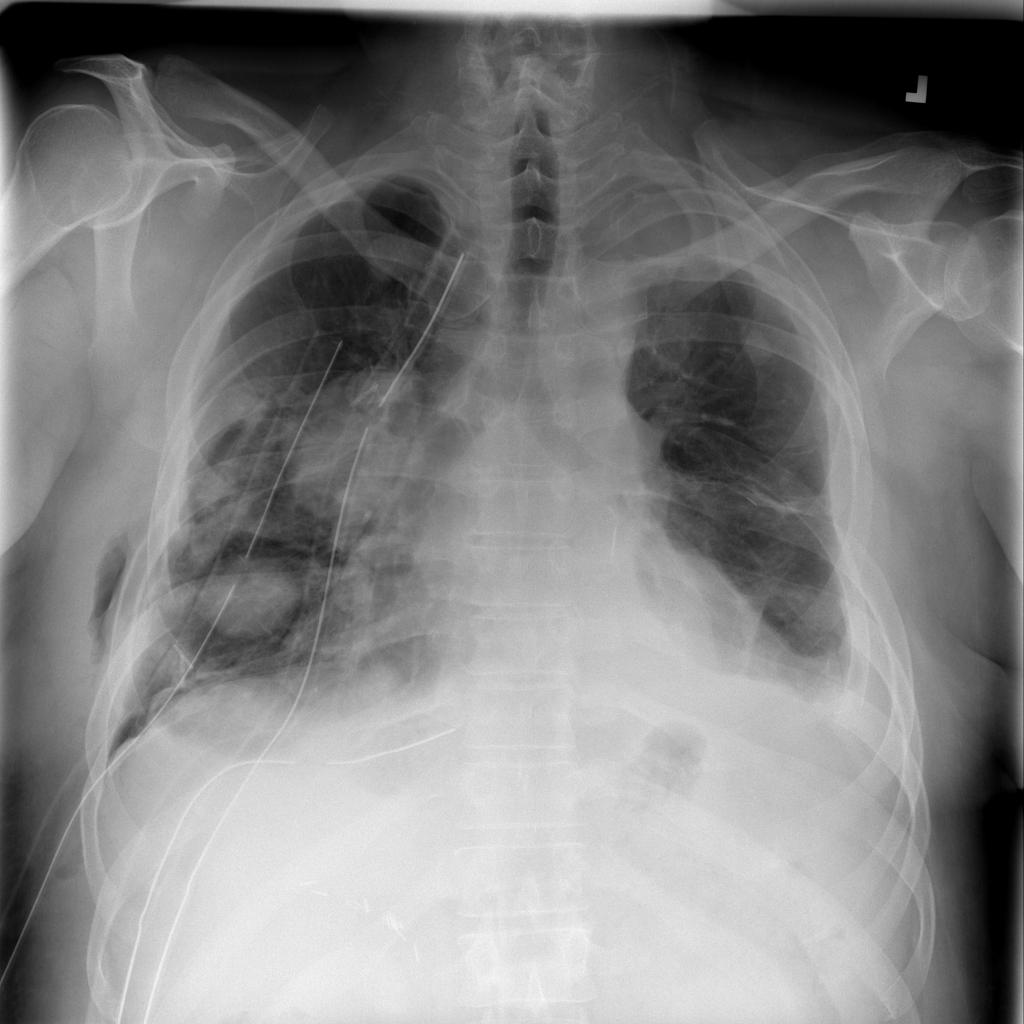nodule: (276, 365, 444, 550), (190, 540, 313, 654), (335, 643, 419, 713)
